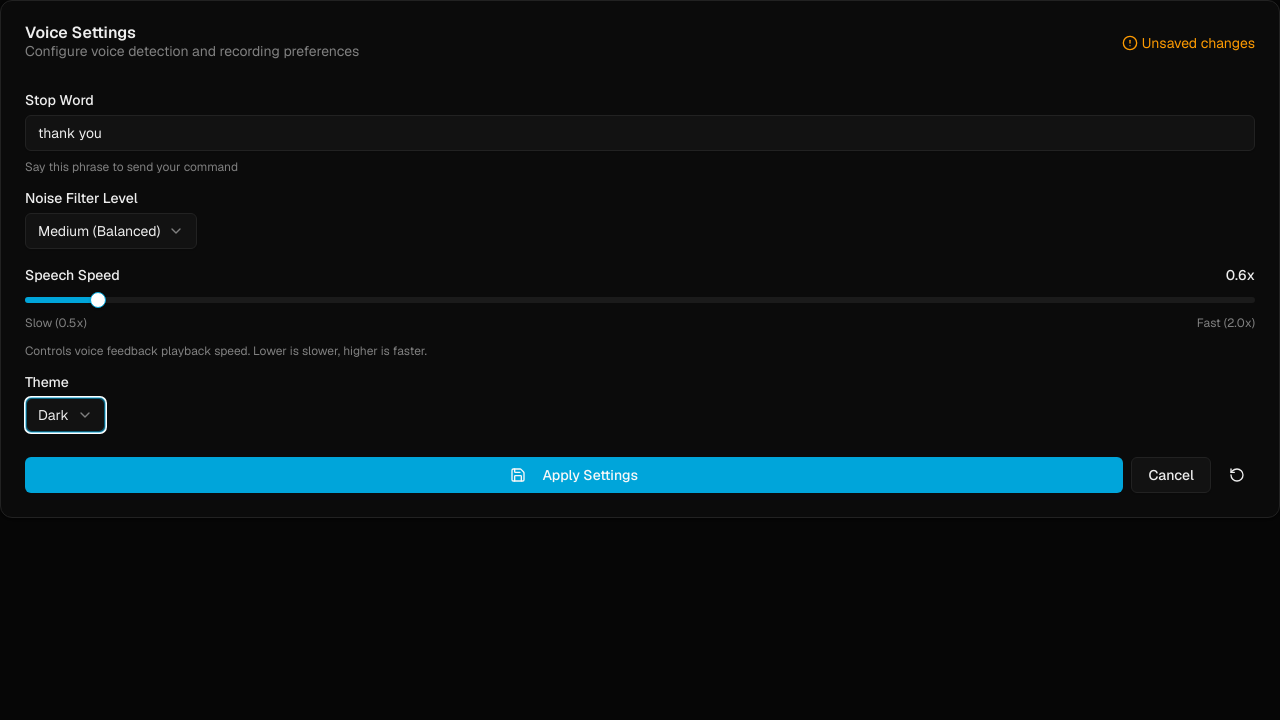
Test: SettingsPanel › cancel and reset › should revert changes on cancel
Earlier steps of the test are not shown.
Click the button "Cancel". click: (1171, 475)
box: [1131,457,1211,493]
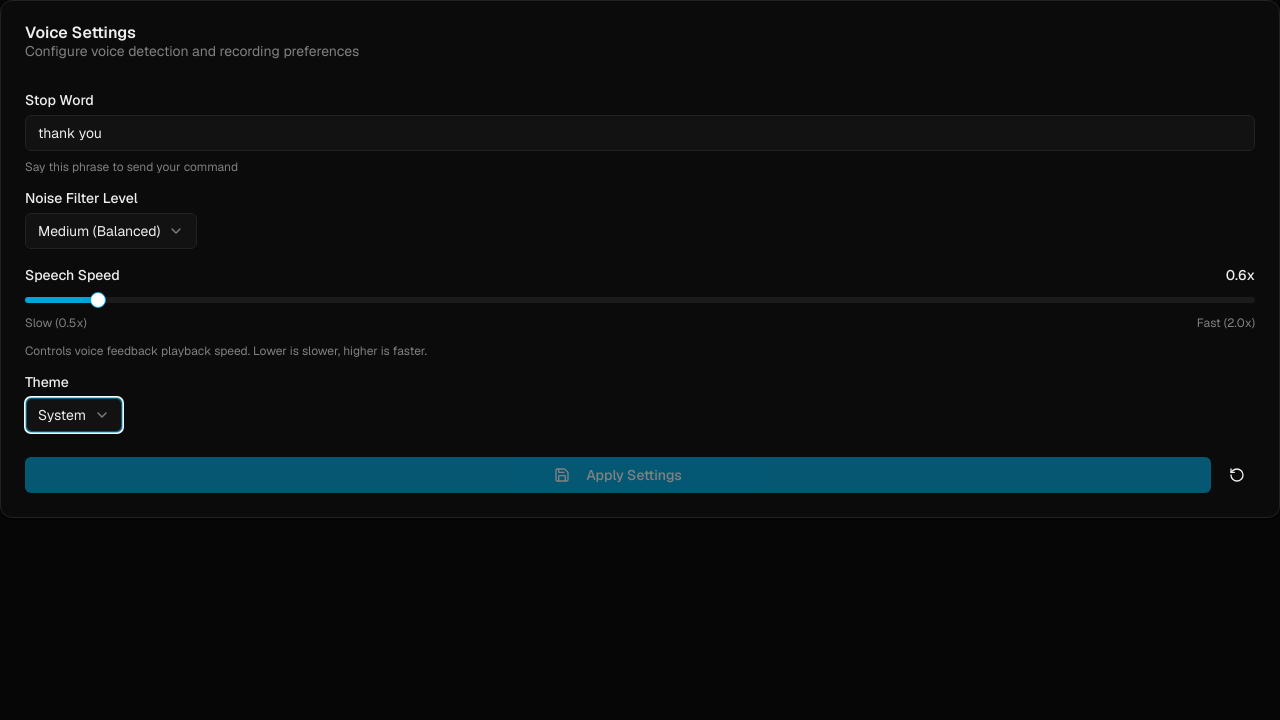
Expected: the text "Unsaved changes" is gone
